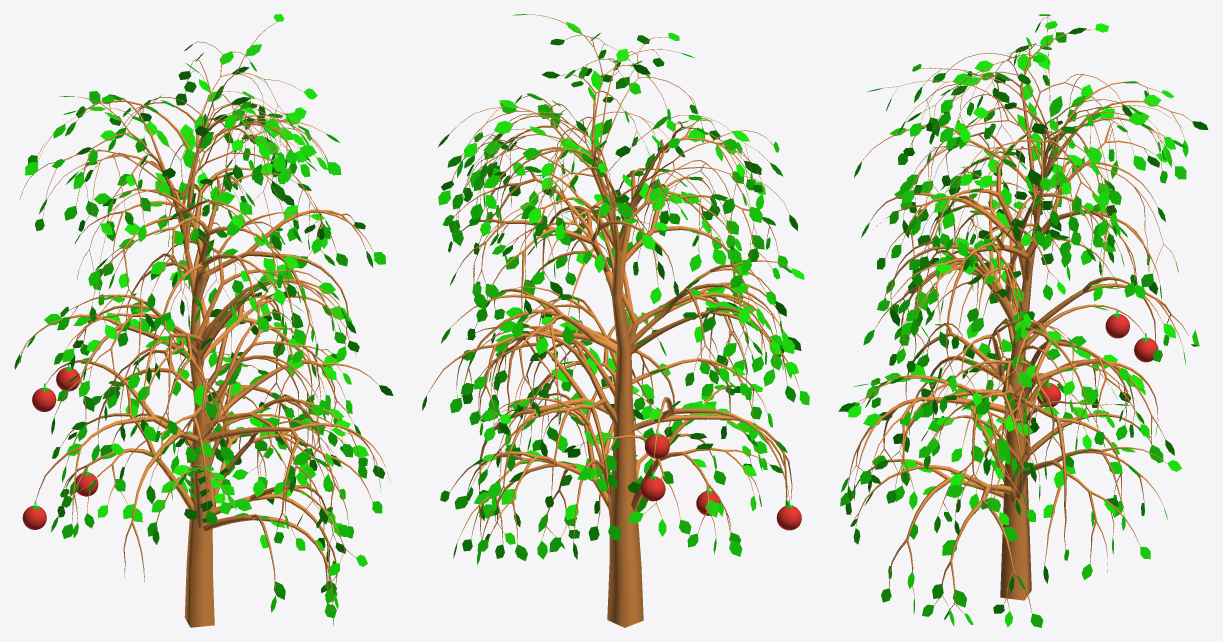
Rendered from apple_tree_2.dae.
The picture shows the model from 3 angles, left to right: view 1: azimuth 30°, elevation 25°; view 2: azimuth 150°, elevation 25°; view 3: azimuth 270°, elevation 25°; orthographic projection. The views are drawn at different scales.
Visible parts, largest first — view 1: apple_tree; view 2: apple_tree; view 3: apple_tree.
Part boxes in pixels (x1,y1,x2,y2): apple_tree: (14, 14, 393, 627); apple_tree: (422, 14, 809, 627); apple_tree: (838, 14, 1208, 627).
Bounding box in the file's own units: 2.1 × 1.91 × 3.32.
